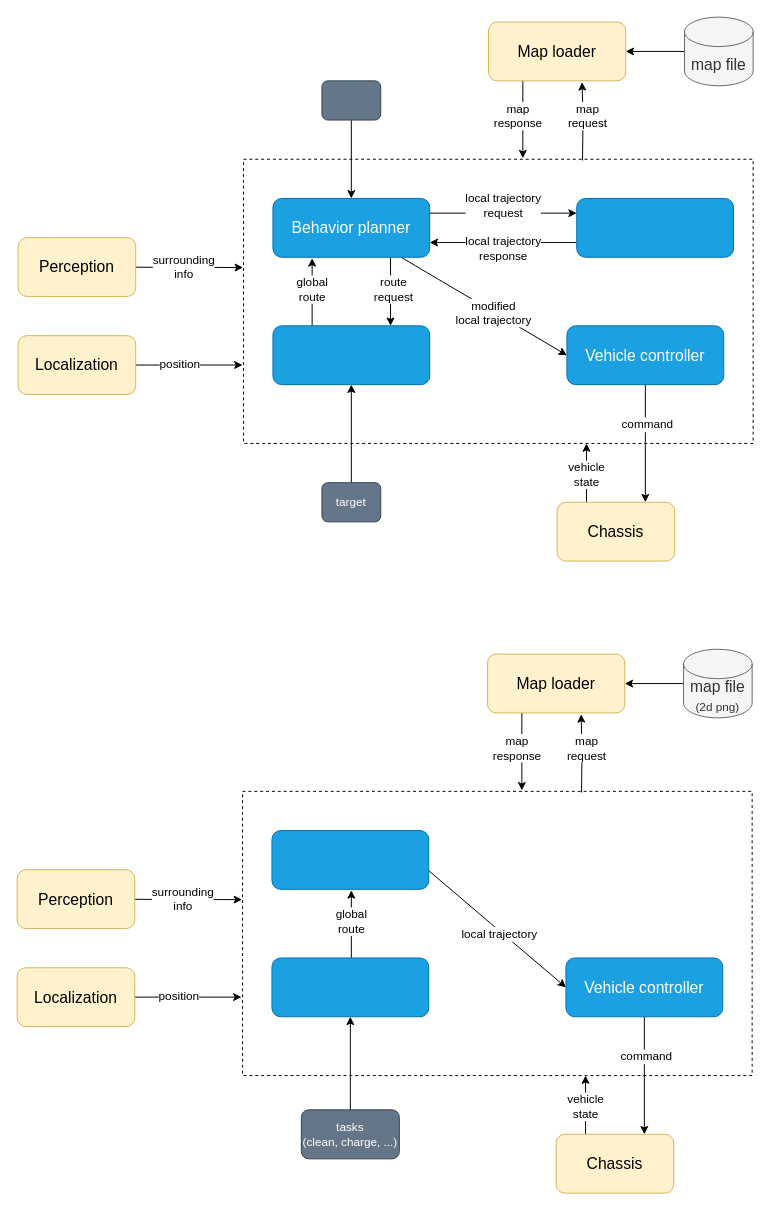
This 770x1210 diagram has some shape labels left out. The shapes that lost their labels are listed below. From the top down, each one's centre as x and y in pixels, then its label:
[351,100]: user command
[655,227]: Lane planner
[351,355]: Global planner
[350,859]: Local planner ( hybrid A*, TEB, ... )
[350,987]: Global planner ( full coverage planning )
